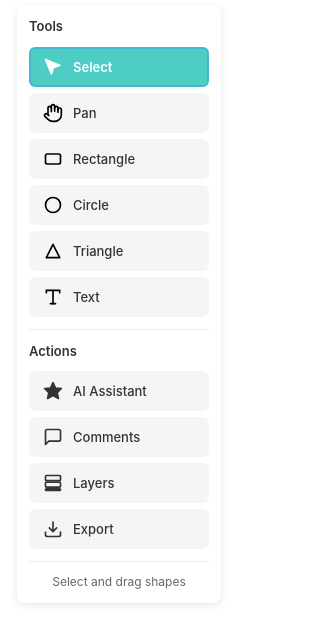
Test: Canvas Context Integration Tests › Toolbar Component › should display appropriate hint for each tool
What coordinates should you click on to do the following:
click the button titled "Draw rectangle"
I would click on:
 (119, 158)
Its box is [29,138,209,178].
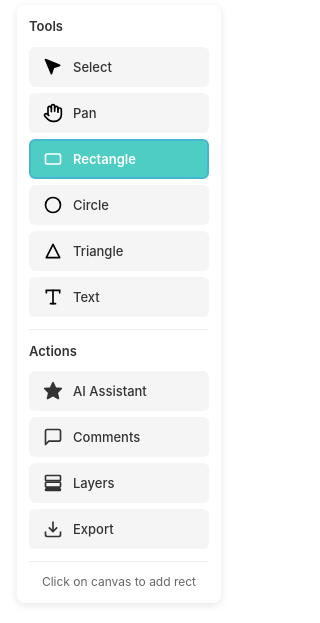
Check: the text "Click on canvas to add rect" is shown, box [42,574,196,589]
What coordinates should you click on to do the following:
click the button titled "Select and move"
I would click on:
 (119, 66)
Its box is [29,46,209,86].
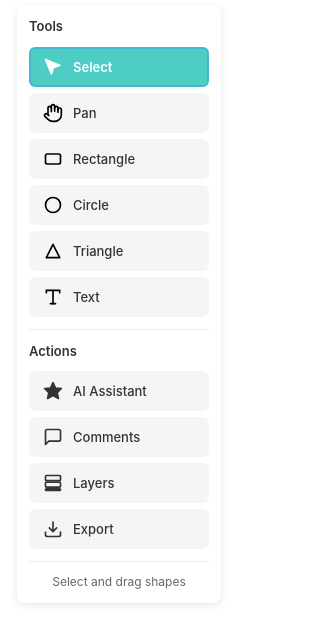
Check: the text "Select and drag shapes" is shown, box [52,574,186,589]
